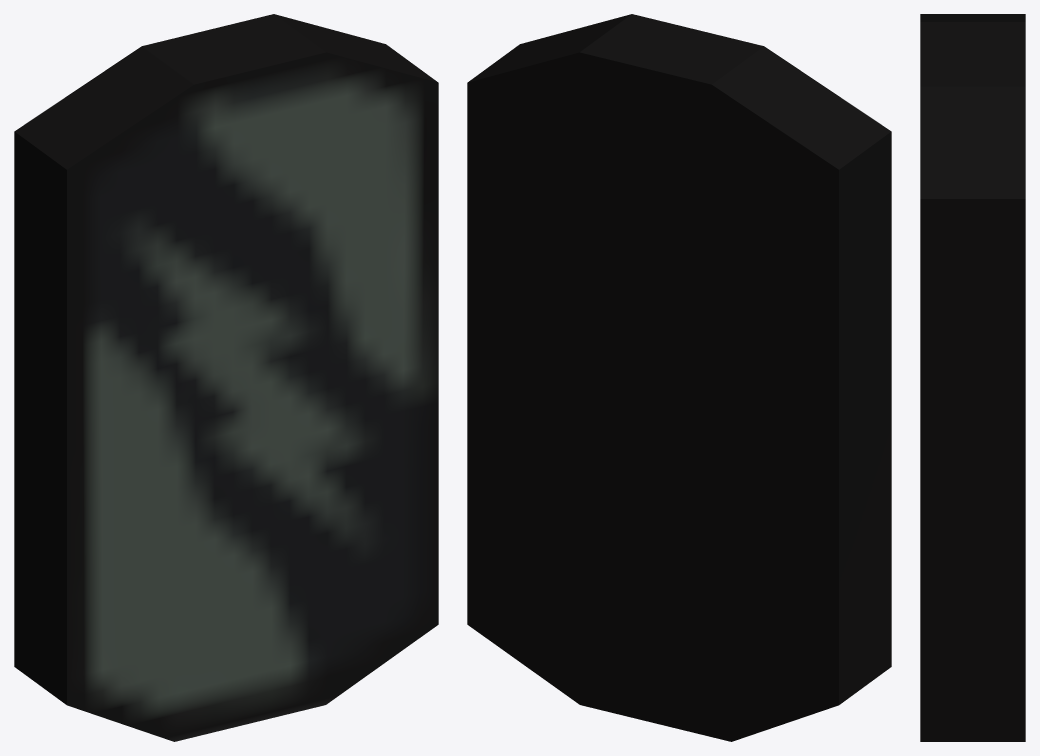
The model's file is SM_Chr_Attach_Patch_Squad_07.fbx.
The picture shows the model from 3 angles, left to right: view 1: azimuth 30°, elevation 25°; view 2: azimuth 150°, elevation 25°; view 3: azimuth 270°, elevation 25°; orthographic projection.
Parts seen in each view (by area): view 1: SM_Chr_Attach_Patch_Squad_07; view 2: SM_Chr_Attach_Patch_Squad_07; view 3: SM_Chr_Attach_Patch_Squad_07.
Part boxes in pixels (x1,y1,x2,y2): SM_Chr_Attach_Patch_Squad_07: (14,14,438,741); SM_Chr_Attach_Patch_Squad_07: (467,14,891,741); SM_Chr_Attach_Patch_Squad_07: (920,14,1025,741).
Bounding box in the file's own units: 3.97 × 6.67 × 0.972.
